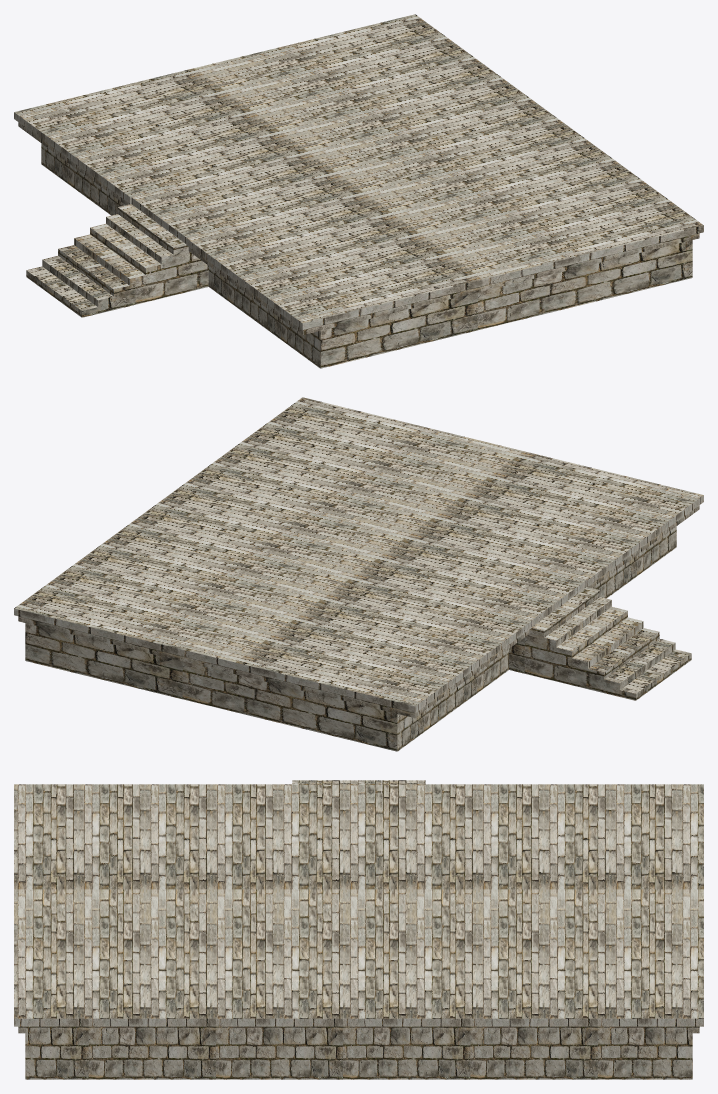
The model's file is Level3Floor.FBX.
3 views of the same model, one above another, from view 1: azimuth 30°, elevation 25°; view 2: azimuth 150°, elevation 25°; view 3: azimuth 270°, elevation 25° (orthographic). The views are drawn at different scales.
Visible parts, largest first — view 1: Level 3 Floor; view 2: Level 3 Floor; view 3: Level 3 Floor.
Boxes of the visible parts, left/top/right/bottom form: Level 3 Floor: left=14, top=14, right=703, bottom=368; Level 3 Floor: left=14, top=397, right=703, bottom=751; Level 3 Floor: left=14, top=780, right=703, bottom=1079.
Size of the model in its own units: 441 by 45.23 by 436.
Materials: 1 (1 with a texture image).
